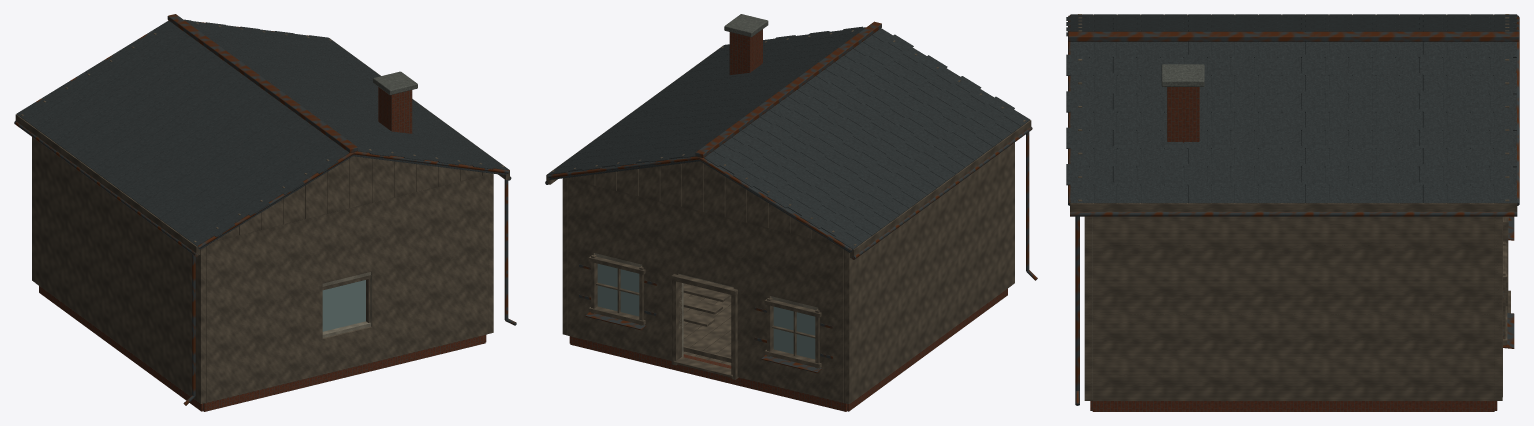
The model's file is Farmhouse_LOD0.fbx.
3 renders of one model, left to right at view 1: azimuth 30°, elevation 25°; view 2: azimuth 150°, elevation 25°; view 3: azimuth 270°, elevation 25°, orthographic. The views are drawn at different scales.
Visible parts, largest first — view 1: Farmhouse_LOD0; view 2: Farmhouse_LOD0; view 3: Farmhouse_LOD0.
Boxes of the visible parts, <box> form: Farmhouse_LOD0: <box>14,14,516,411</box>; Farmhouse_LOD0: <box>545,14,1037,411</box>; Farmhouse_LOD0: <box>1066,14,1519,411</box>.
Size of the model in its own units: 945 by 673 by 902.
